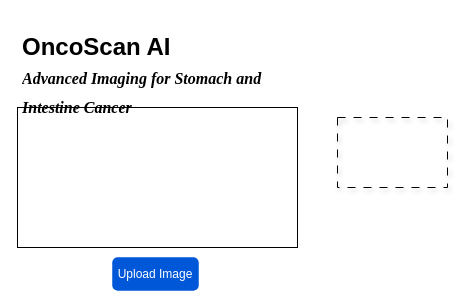
This 471x307 diagram has some shape labels left out. The shapes that lost their labels are listed below. From the top down, each one's centre as x and y in pixels, then its label:
At point 393,153: "Prediction Window".
At point 157,177: "Figure".
